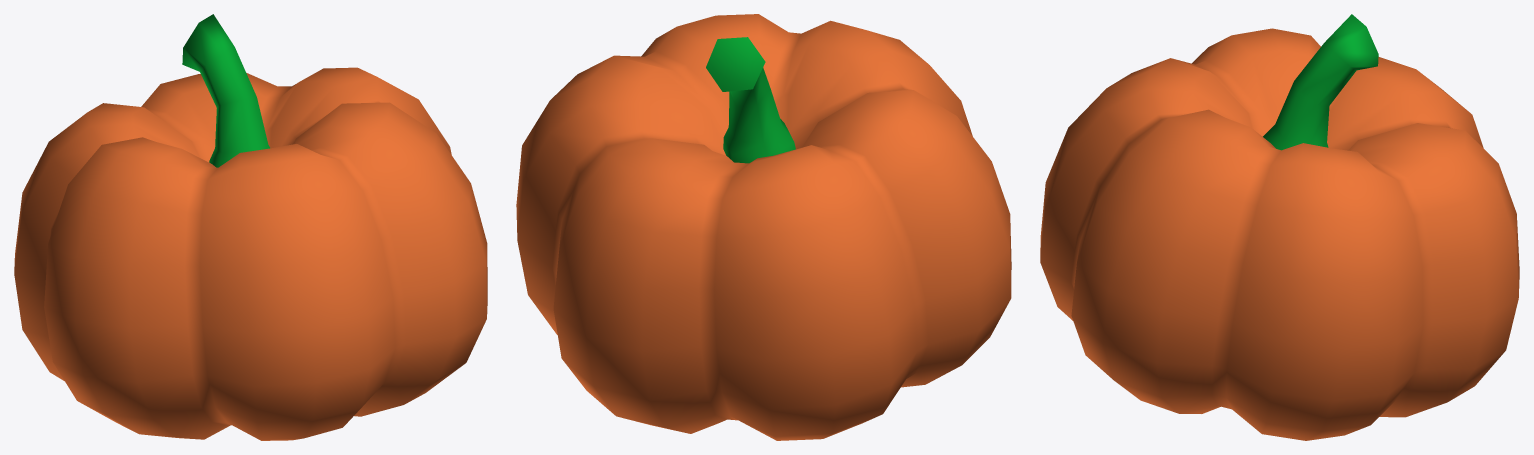
File: mdl_pumpkin.fbx
The picture shows the model from 3 angles, left to right: view 1: azimuth 30°, elevation 25°; view 2: azimuth 150°, elevation 25°; view 3: azimuth 270°, elevation 25°; orthographic projection. The views are drawn at different scales.
Parts seen in each view (by area): view 1: Pumpkin_Full; view 2: Pumpkin_Full; view 3: Pumpkin_Full.
Part boxes in pixels (x1,y1,x2,y2): Pumpkin_Full: (14,14,487,440); Pumpkin_Full: (516,14,1011,440); Pumpkin_Full: (1040,14,1519,440).
Bounding box in the file's own units: 32.41 × 27.53 × 32.08.
